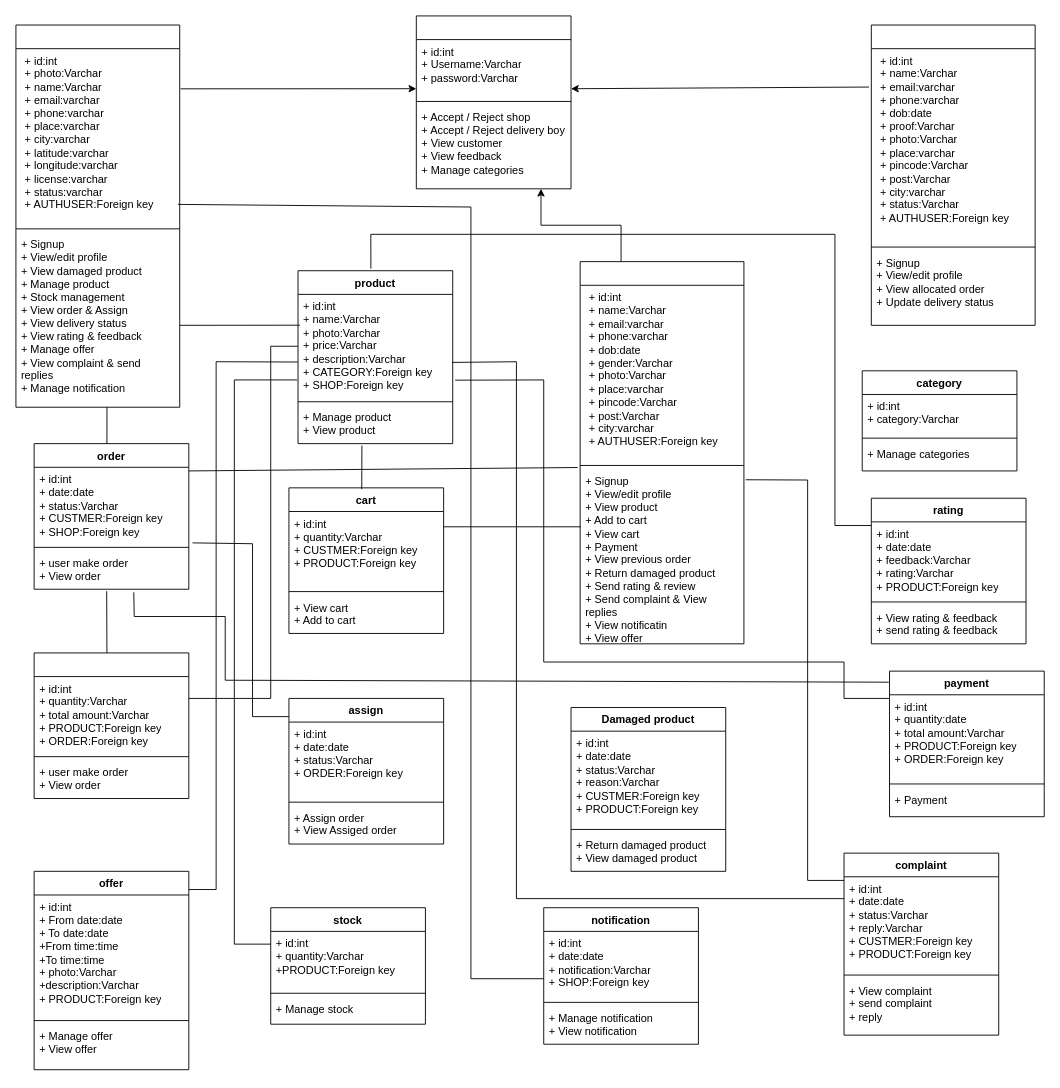
The diagram is 1060 pixels wide and 1088 high, and some of its shapes have lost their labels. The shapes that lost their labels are listed below. From the top down, each one's box as (x1, y1, x2, y2) in pixels, then its label:
(415, 15, 571, 189): AUTHUSER
(870, 24, 1035, 325): delivery boy
(15, 24, 180, 407): shop
(579, 261, 744, 644): customer
(33, 652, 189, 799): order_sub
